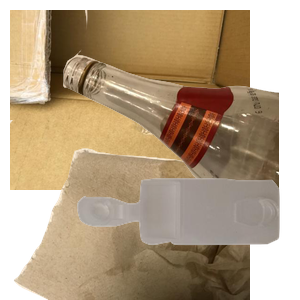cardboard: (10, 10, 250, 190)
glass: (60, 10, 300, 190)
plastic: (75, 176, 300, 300)
trash: (10, 120, 250, 300)
